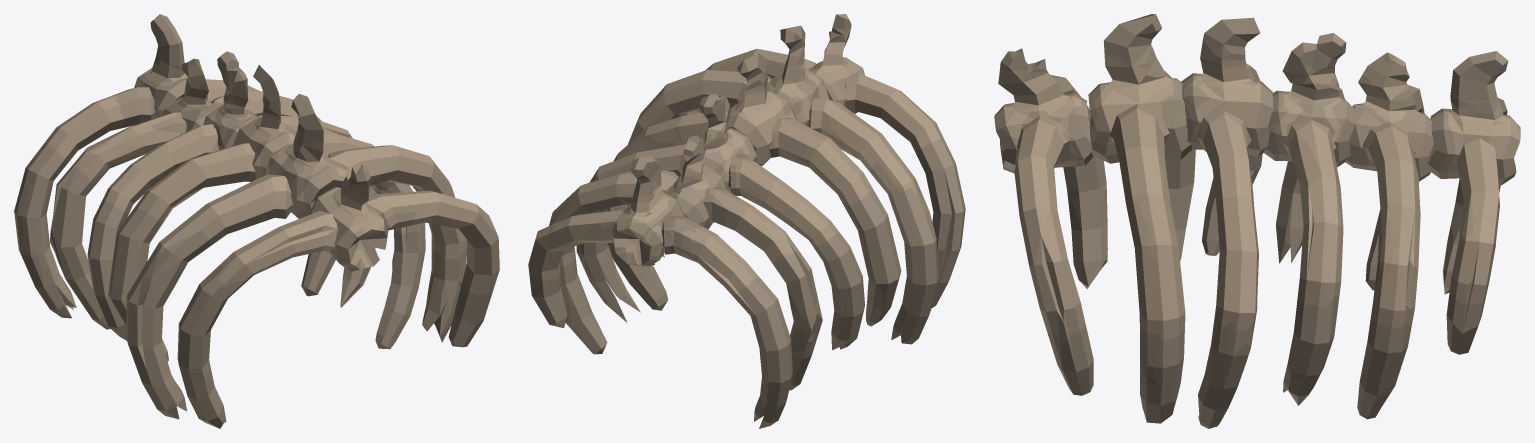
The model's file is isle_ribs.gltf.
3 renders of one model, left to right at view 1: azimuth 30°, elevation 25°; view 2: azimuth 150°, elevation 25°; view 3: azimuth 270°, elevation 25°, orthographic. The views are drawn at different scales.
Parts seen in each view (by area): view 1: isle_ribs; view 2: isle_ribs; view 3: isle_ribs.
Part boxes in pixels (left/top/right/bottom): isle_ribs: left=14, top=14, right=499, bottom=428; isle_ribs: left=528, top=14, right=965, bottom=428; isle_ribs: left=994, top=14, right=1520, bottom=428.
Bounding box in the file's own units: 4.14 × 3.56 × 4.85.
Materials: 1 (1 with a texture image).
